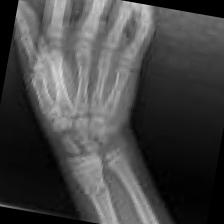greenstick-fracture: (0, 0, 218, 224)
